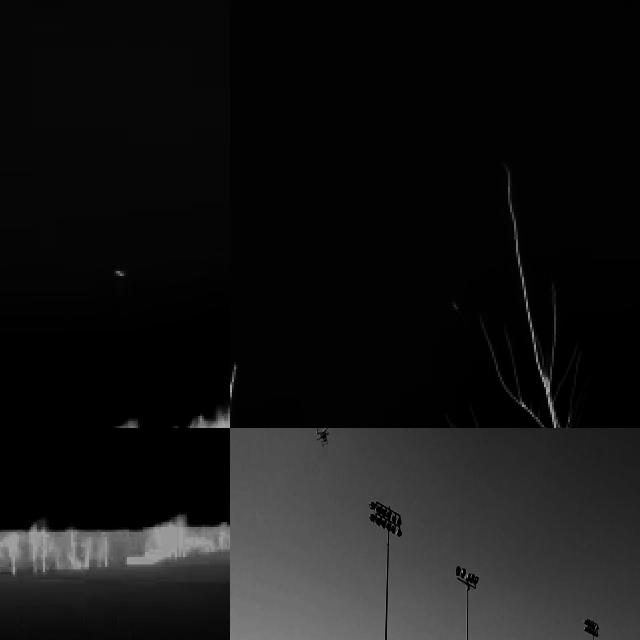0: (442, 293, 464, 321)
1: (100, 256, 140, 301)
drone: (313, 428, 334, 449)
